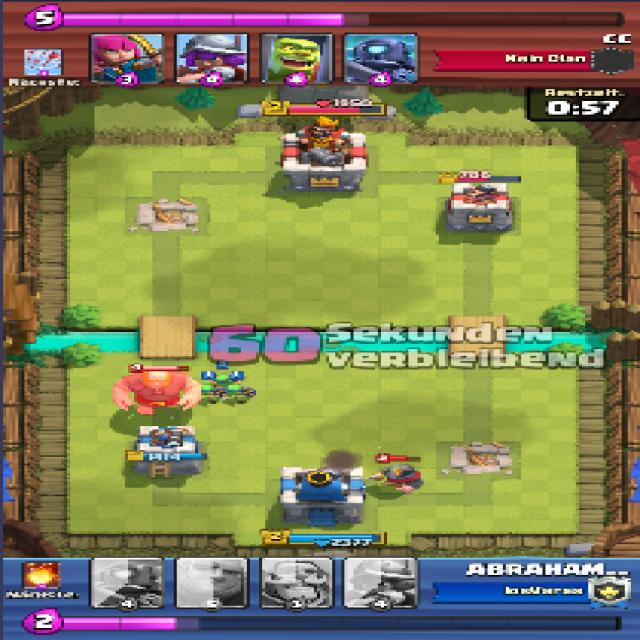Enemy-Giant: (112, 370, 197, 414)
Enemy-Knight: (372, 462, 426, 492)
Player-SpearGoblin: (224, 385, 258, 405), (194, 381, 218, 400), (211, 372, 232, 392)
